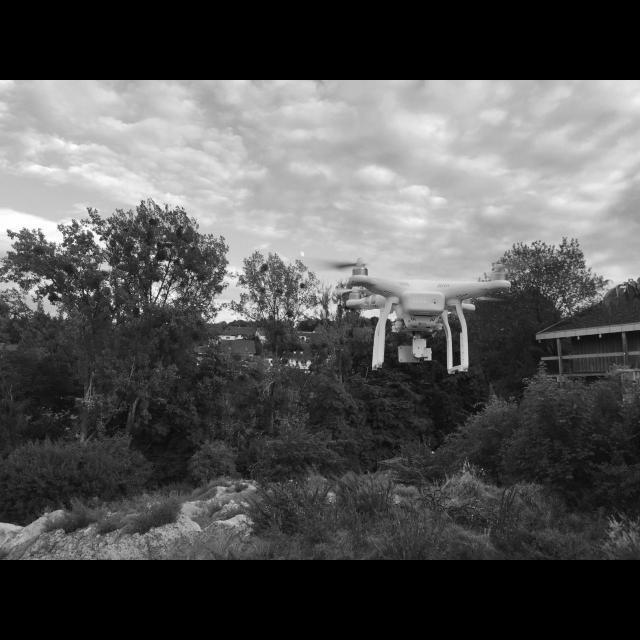Drons: (323, 254, 515, 378)
